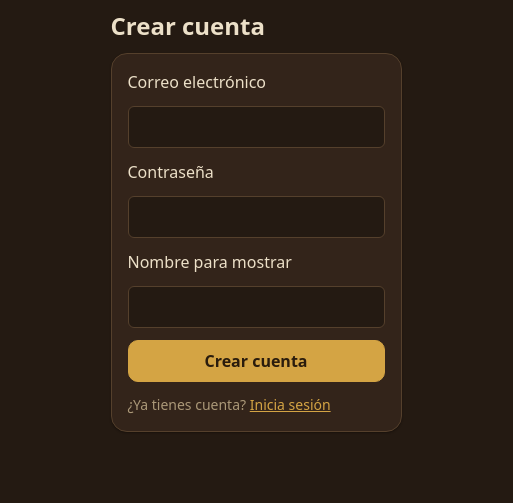
Scenario: RegisterPage › shows an honest message when there is no backend, leaving the session clean
Type "ana@example.com" into the field labelled "Correo electrónico" at (256, 127), box [128,106,384,148]
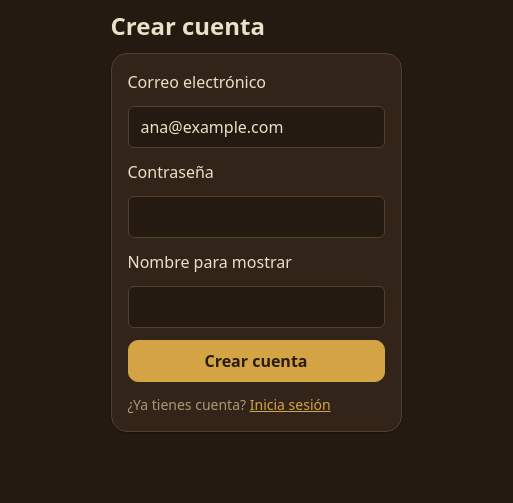
Type "secret12" into the password field labelled "Contraseña" at (256, 217), box [128,196,384,238]
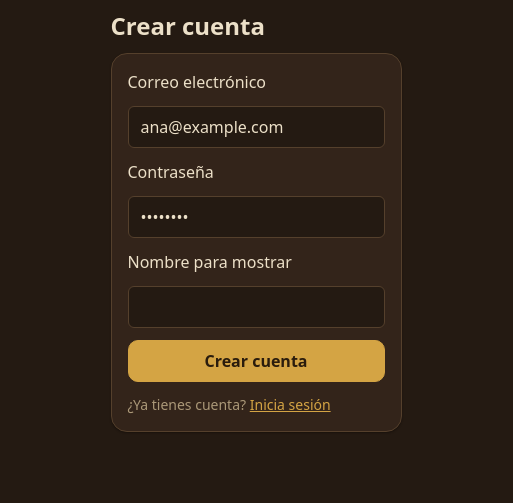
Type "Ana" into the field labelled "Nombre para mostrar" at (256, 307), box [128,286,384,328]
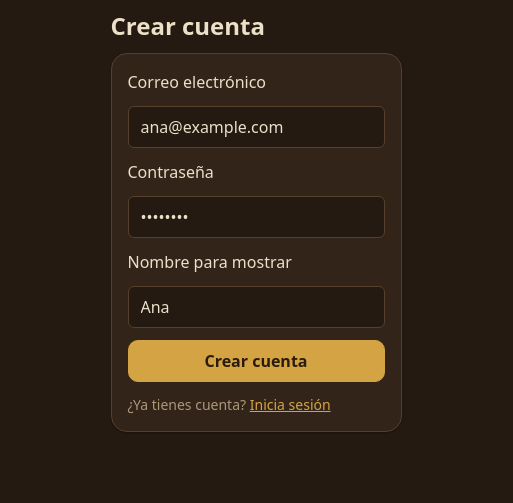
Click the button "Crear cuenta" at (256, 361), box [128,340,384,382]
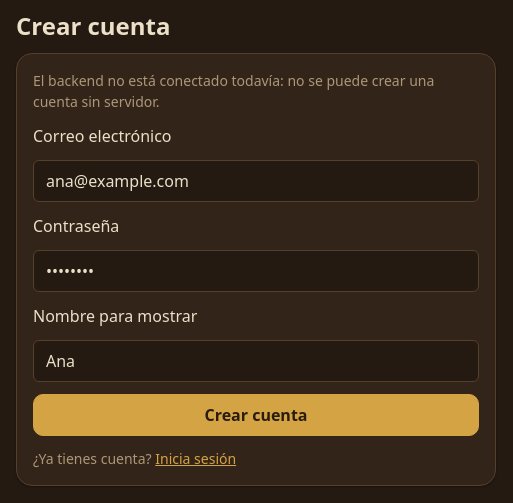
Expected: the message shows "no está conectado", [33,71,434,111]
